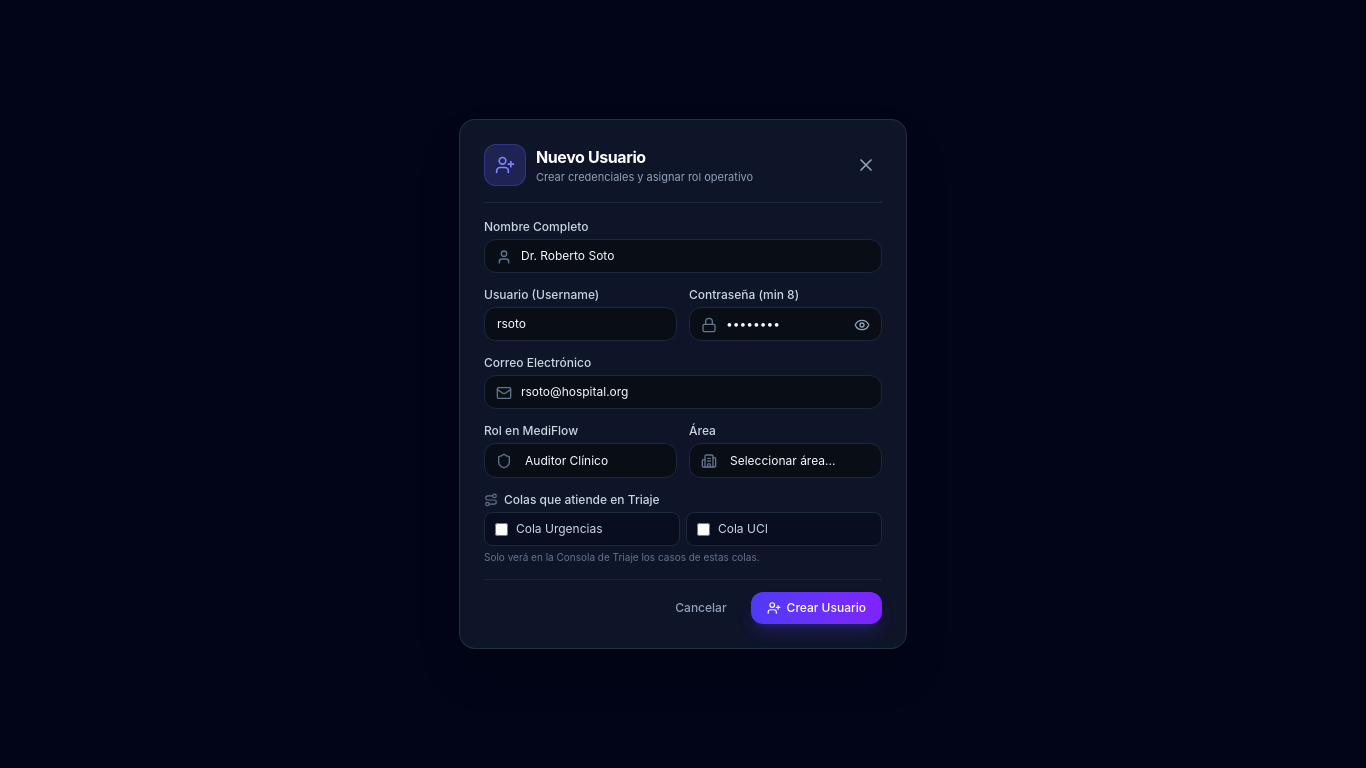
Test: UserFormModal user management and role assignment › toggles password visibility when clicking eye button in create mode
Click the button named "ver contraseña" at [862, 325], box [854,317,870,333]
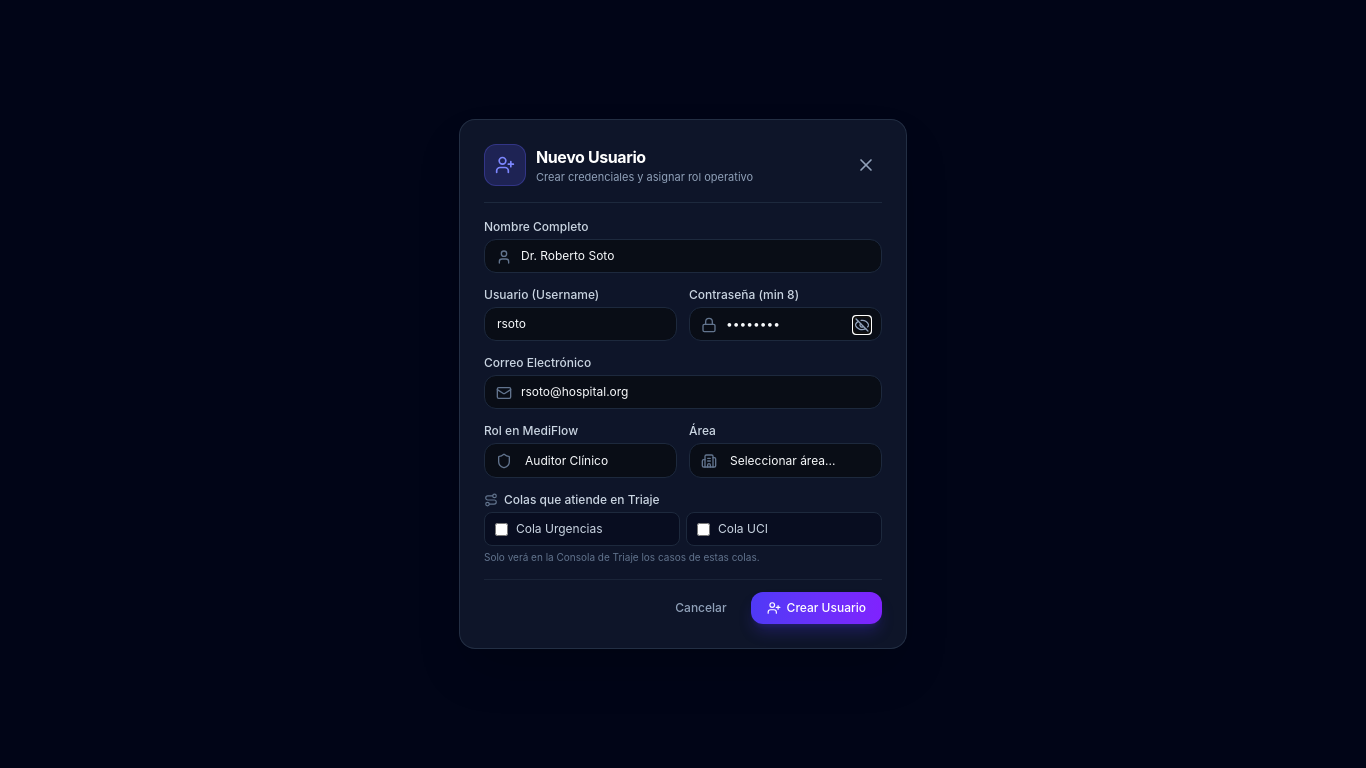
Now the button named "ocultar contraseña" is shown, box [854,317,870,333]
